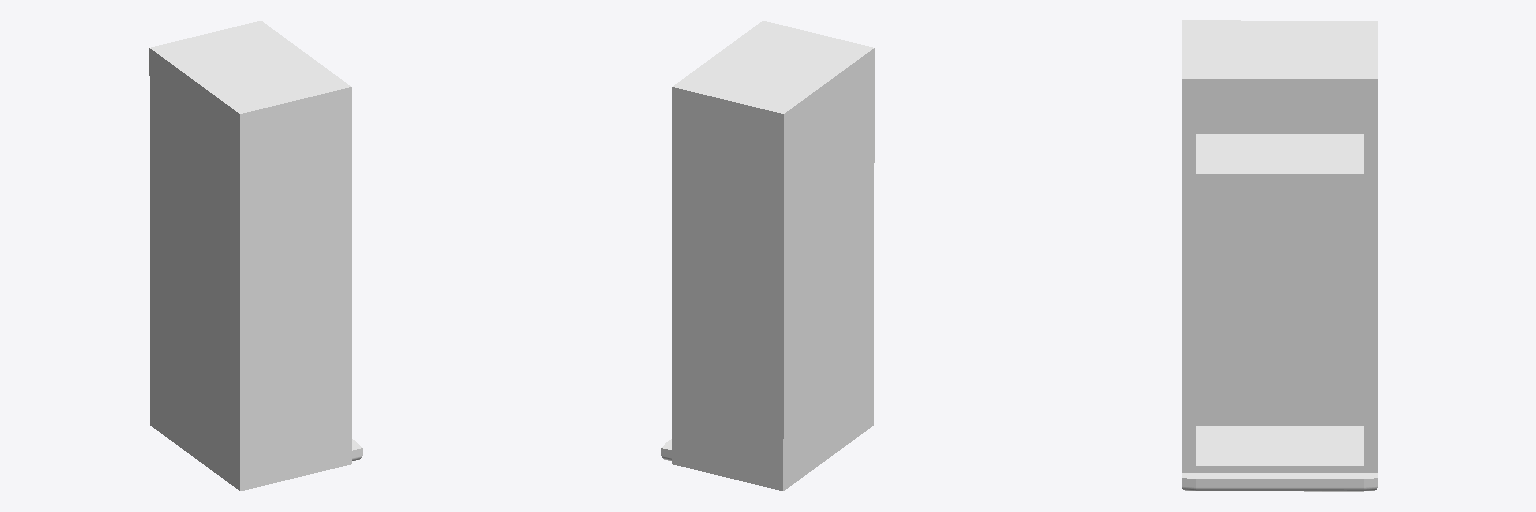
The robot description file, URDF, robot "fridge_body":
<?xml version="1.0"?>
<robot name="fridge_body">
<link name="fridge_body_base_link">
  <inertial>
    <mass value="0.0"/>
    <origin xyz="0 0 0" rpy="1.57 0 1.57"/>
    <inertia ixx="0.01" ixy="0" ixz="0" iyy="0.01" iyz="0" izz="0.01"/>
  </inertial>

  <visual>
    <origin xyz="0 0 0" rpy="1.57 0 1.57"/>
    <geometry>
      <mesh filename="package://meshes/fridge_body.dae" scale="1 0.85 0.85"/>
    </geometry>
    <!-- <material name="material_name">
      <color rgba="1.0 1.0 0.0 1.0"/>
    </material> -->
  </visual>

  <collision>
    <origin xyz="0 0 0" rpy="1.57 0 1.57"/>
    <geometry>
      <mesh filename="package://meshes/fridge_body.dae" scale="1 0.85 0.85"/>

      </geometry>
  </collision>
</link>
</robot>

--- Facts derived from the render (not from the file) ---
The picture shows the robot from 3 angles, left to right: view 1: azimuth 30°, elevation 25°; view 2: azimuth 150°, elevation 25°; view 3: azimuth 270°, elevation 25°; orthographic projection.
Model fridge_body with 1 links and 0 joints (none), rooted at fridge_body_base_link, posed every joint at zero.
Visible links, largest first — view 1: fridge_body_base_link; view 2: fridge_body_base_link; view 3: fridge_body_base_link.
Link boxes in pixels (x1,y1,x2,y2): fridge_body_base_link: (149,21,362,490); fridge_body_base_link: (661,21,874,490); fridge_body_base_link: (1182,20,1377,491).
Size in the robot's own frame: 0.5543 by 0.7004 by 1.61 metres.
1 mesh visuals loaded from 1 distinct referenced files (1 Collada DAE).
